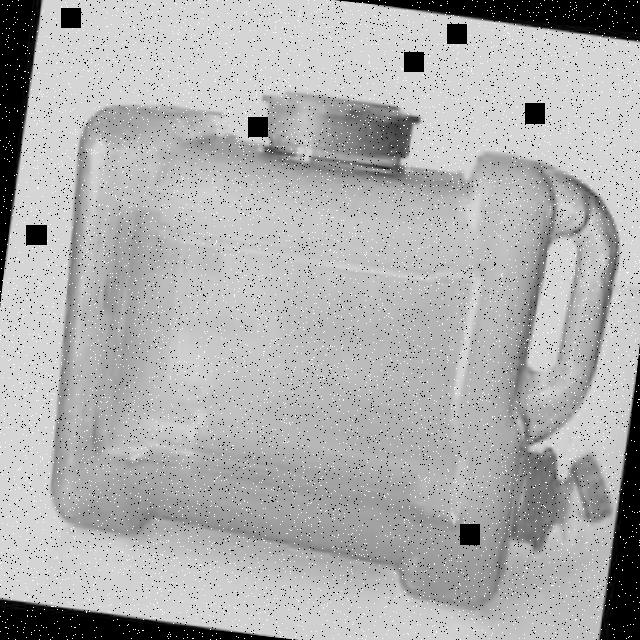chemical_plastic_gallon: (10, 46, 640, 636)
